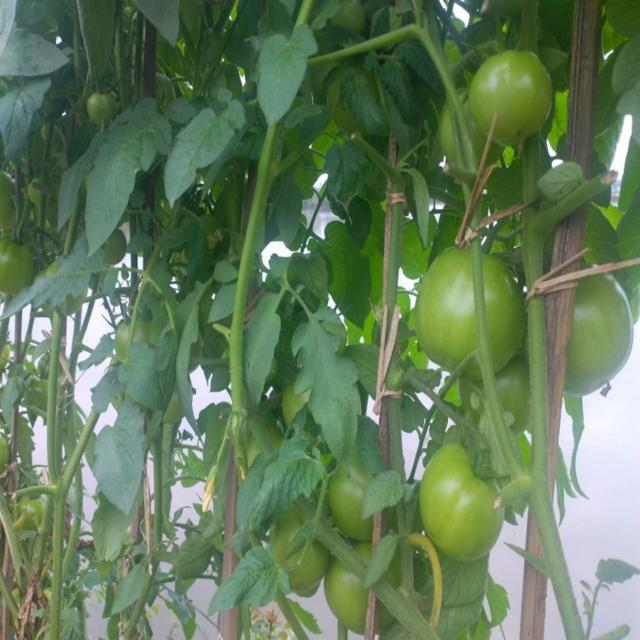tomato: (421, 444, 503, 562), (421, 245, 480, 375), (472, 51, 554, 144), (578, 270, 624, 390), (276, 516, 336, 597), (331, 550, 384, 638), (486, 255, 523, 376), (331, 469, 377, 539), (281, 386, 311, 423), (111, 319, 143, 353), (21, 494, 51, 528), (1, 235, 20, 279), (86, 91, 111, 123), (1, 425, 12, 468)
